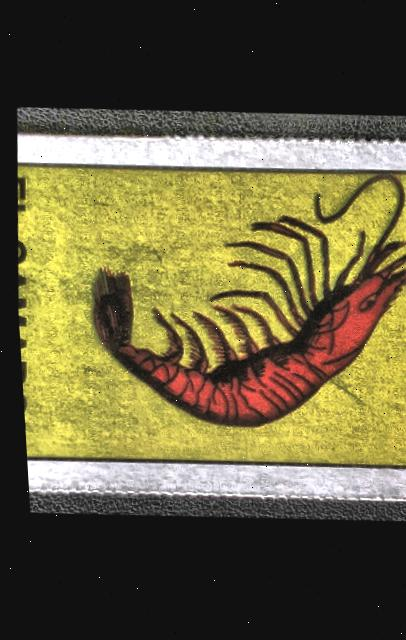El Camaron: (7, 134, 406, 503)
